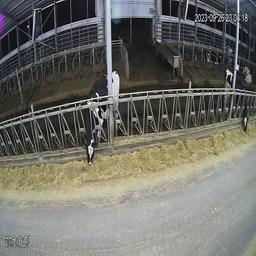cow: (81, 64, 112, 166), (223, 66, 249, 137), (205, 49, 220, 68), (241, 61, 252, 84)
